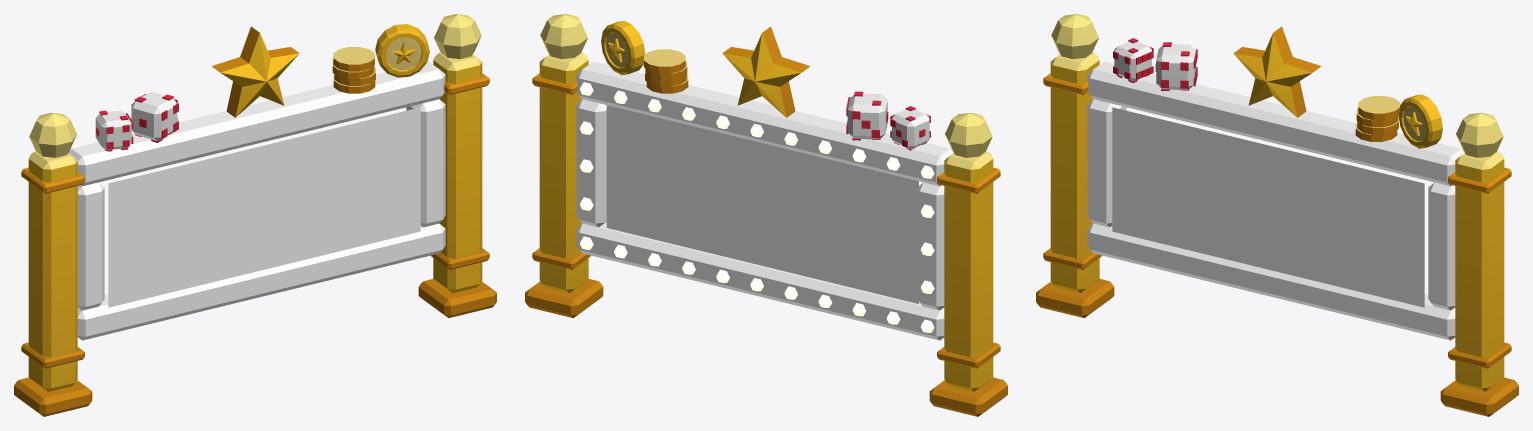
The model's file is PlotSign.glb.
The picture shows the model from 3 angles, left to right: view 1: azimuth 30°, elevation 25°; view 2: azimuth 150°, elevation 25°; view 3: azimuth 330°, elevation 25°; orthographic projection.
Visible parts, largest first — view 1: Accent, Posts, Decorations; view 2: Display, Accent, Posts, Decorations, Bulbs; view 3: Accent, Posts, Decorations.
Boxes of the visible parts, left/top/right/bottom form: Accent: left=68, top=61, right=445, bottom=340; Posts: left=14, top=14, right=496, bottom=416; Decorations: left=95, top=24, right=429, bottom=151; Display: left=606, top=105, right=918, bottom=303; Accent: left=576, top=61, right=953, bottom=340; Posts: left=525, top=14, right=1007, bottom=416; Decorations: left=601, top=20, right=930, bottom=150; Bulbs: left=580, top=82, right=934, bottom=332; Accent: left=1087, top=61, right=1464, bottom=340; Posts: left=1036, top=14, right=1518, bottom=416; Decorations: left=1113, top=26, right=1442, bottom=148.
Size of the model in its own units: 20.8 by 14.05 by 2.4.
3 materials, 1 textured.
